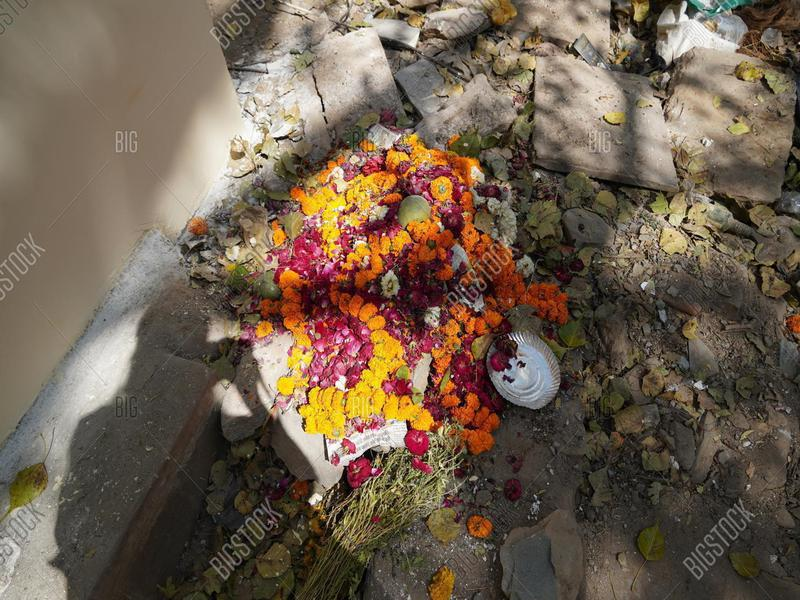flowers: (250, 124, 575, 488)
leaf: (1, 442, 66, 522)
